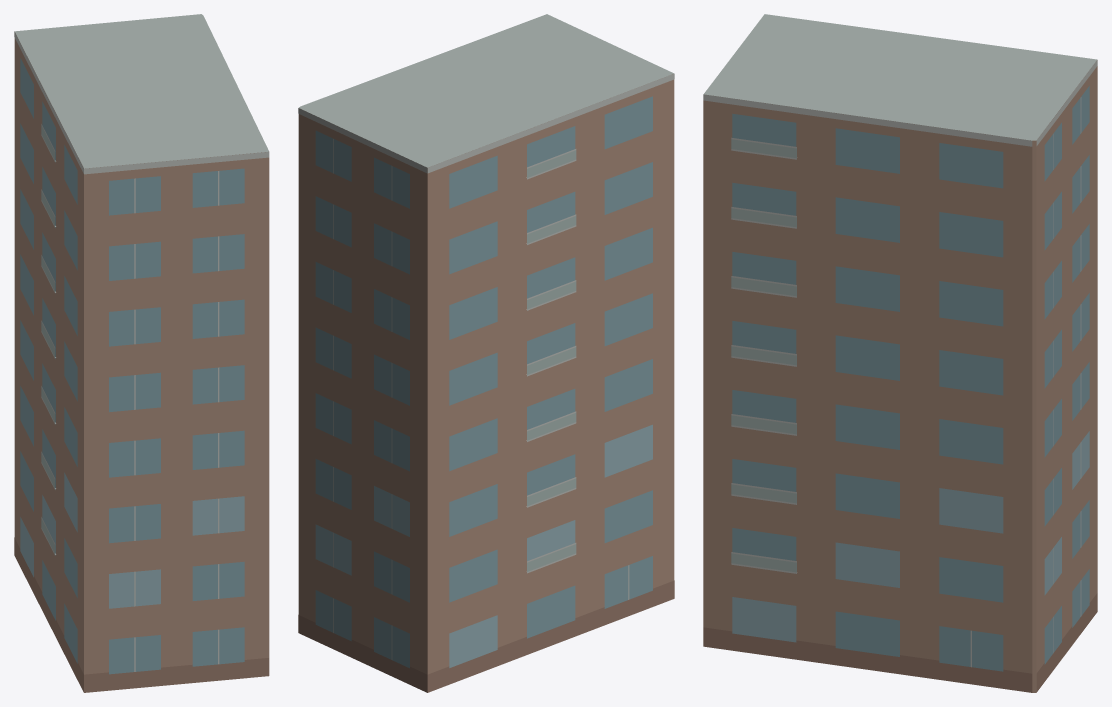
File: survey-upis-32876188.glb
3 views of the same model, side by side, from view 1: azimuth 30°, elevation 25°; view 2: azimuth 150°, elevation 25°; view 3: azimuth 270°, elevation 25° (orthographic). The views are drawn at different scales.
Parts seen in each view (by area): view 1: survey-upis-32876188.tmp; view 2: survey-upis-32876188.tmp; view 3: survey-upis-32876188.tmp.
Part boxes in pixels (<box>): survey-upis-32876188.tmp: <box>14,14,269,692</box>; survey-upis-32876188.tmp: <box>298,14,674,692</box>; survey-upis-32876188.tmp: <box>703,14,1097,692</box>.
Bounding box in the file's own units: 10.78 × 21.9 × 14.18.
